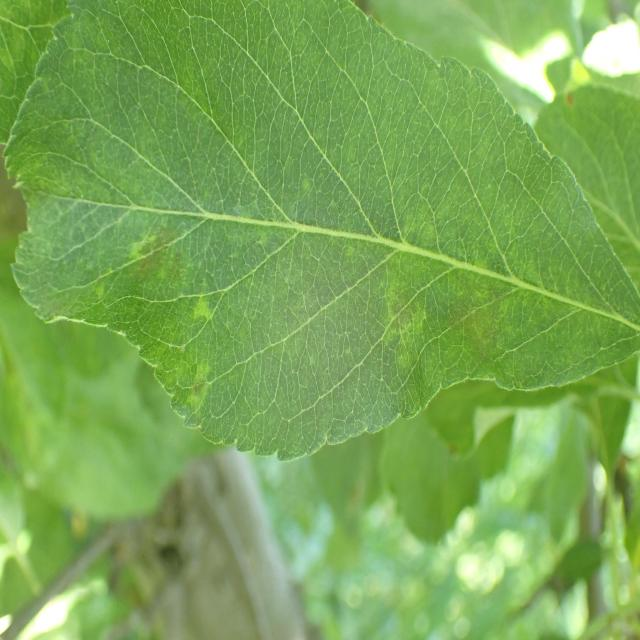scab: (36, 129, 610, 424)
